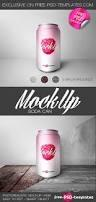Aluminum can: (32, 21, 67, 77), (30, 126, 64, 182)
